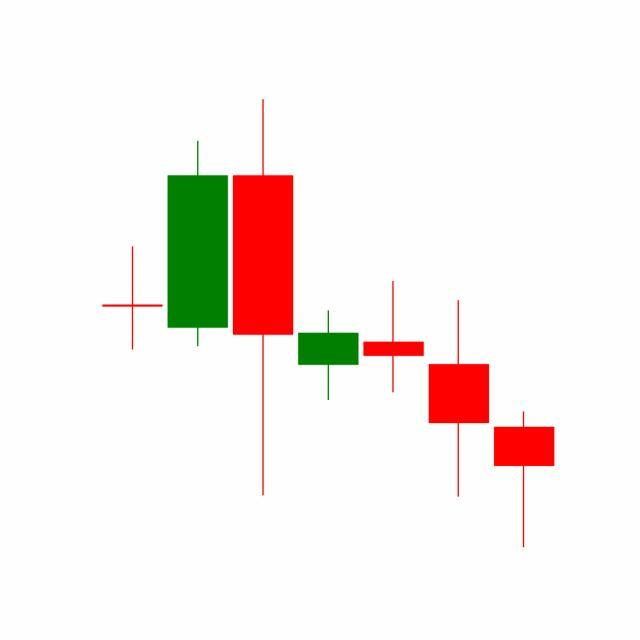Hikkake Pattern: (165, 100, 492, 503)
